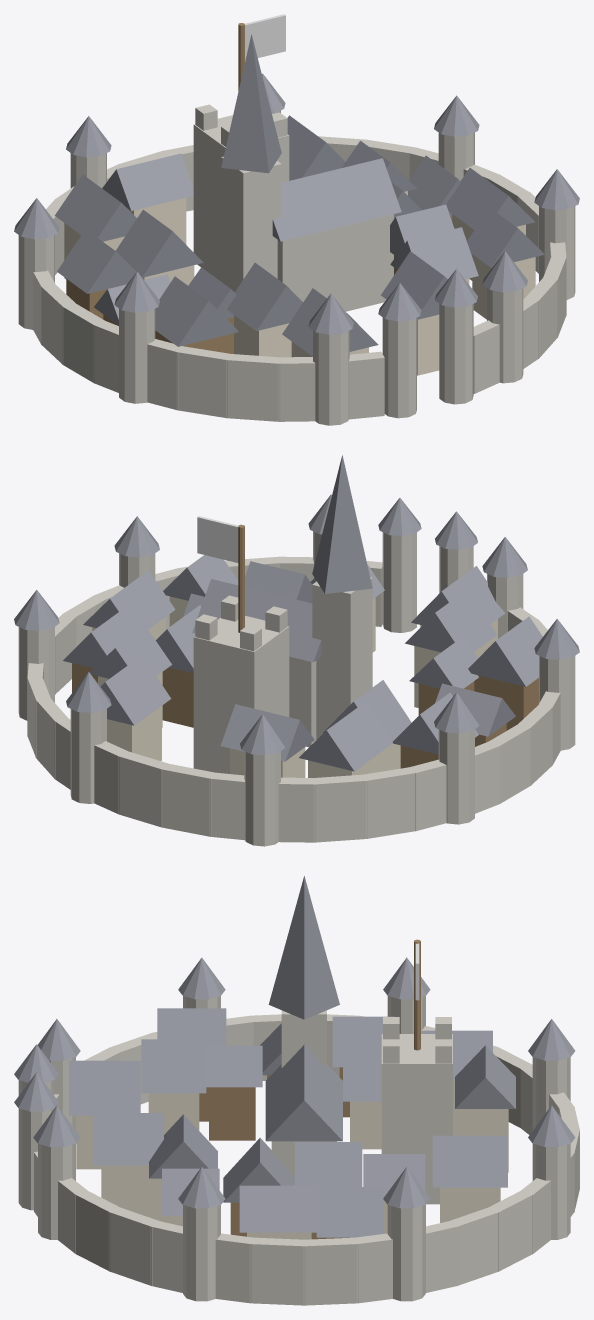
File: civ_city_medieval_city.glb
3 renders of one model, top to bottom at view 1: azimuth 30°, elevation 25°; view 2: azimuth 150°, elevation 25°; view 3: azimuth 270°, elevation 25°, orthographic. The views are drawn at different scales.
Visible parts, largest first — view 1: civ_city_medieval_city; view 2: civ_city_medieval_city; view 3: civ_city_medieval_city.
Boxes of the visible parts, <box> form: civ_city_medieval_city: <box>14,14,579,425</box>; civ_city_medieval_city: <box>14,455,579,846</box>; civ_city_medieval_city: <box>14,876,579,1305</box>.
Bounding box in the file's own units: 4.63 × 2.7 × 4.76.
